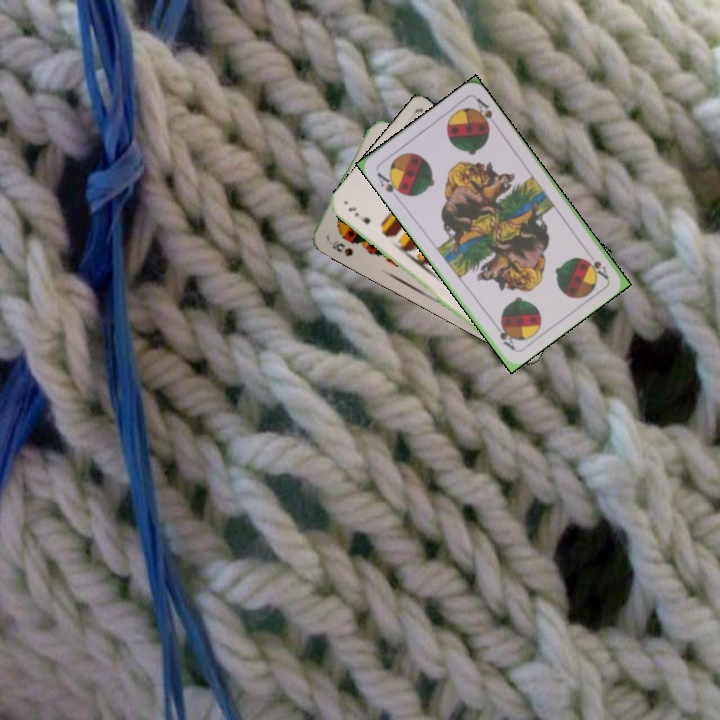E7: (344, 203, 373, 227)
S8: (328, 239, 356, 259)
SA: (373, 168, 407, 202), (583, 256, 611, 282)
